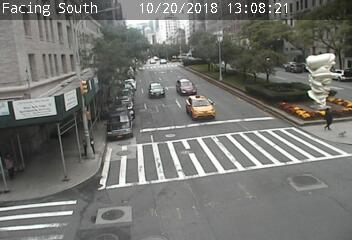car: (187, 98, 213, 118), (146, 82, 164, 96), (178, 80, 196, 92), (159, 59, 166, 64), (149, 59, 156, 64)
